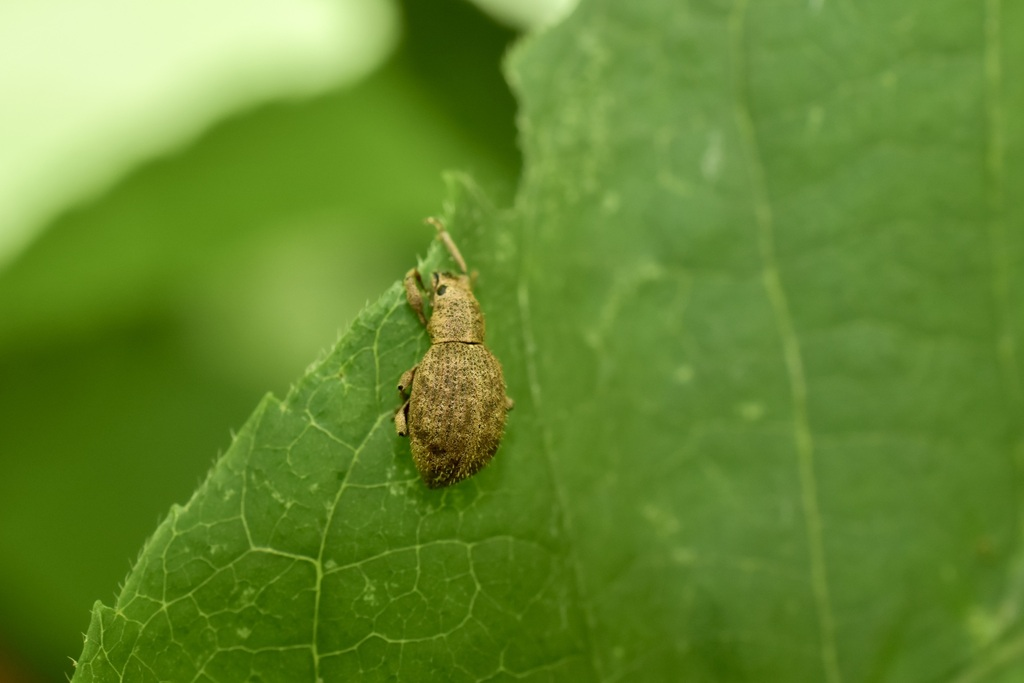weevils: (321, 166, 593, 546)
